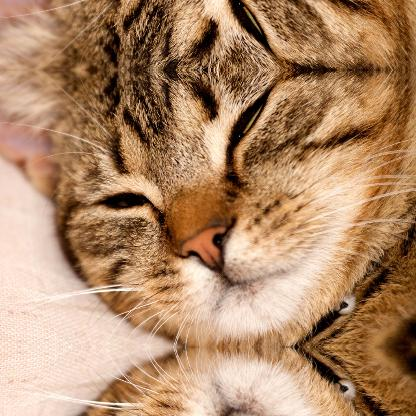Cat: (0, 69, 415, 346), (0, 0, 415, 70), (0, 347, 415, 415)
